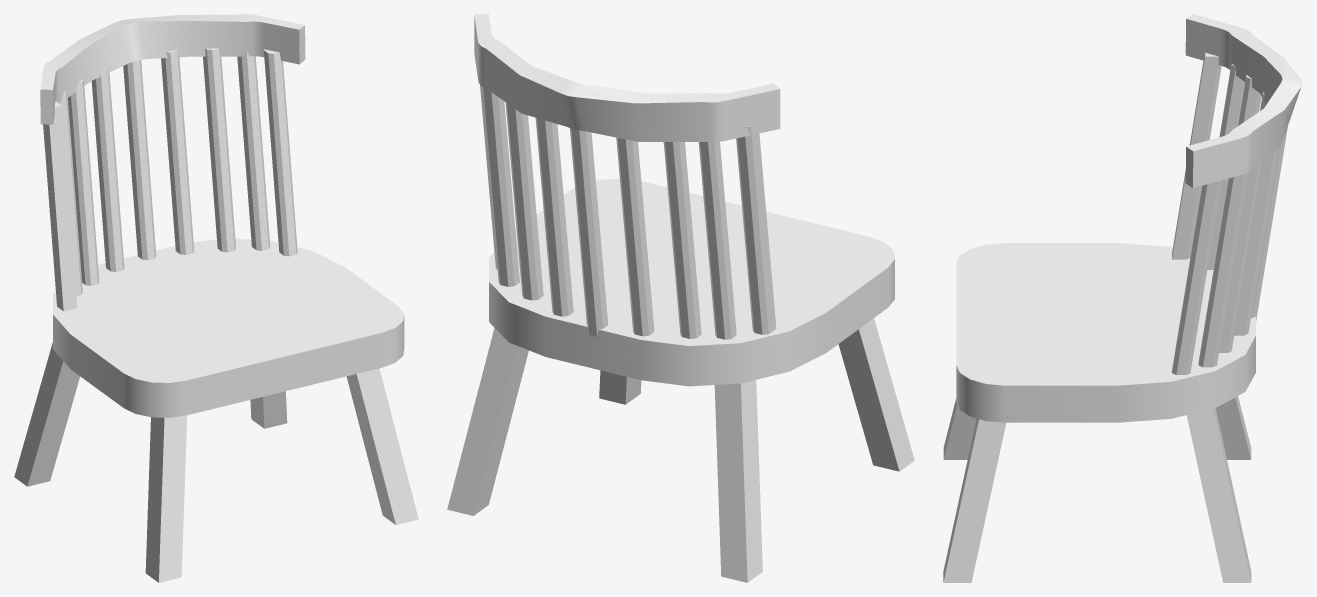
Rendered from chair_white.fbx.
3 views of the same model, side by side, from view 1: azimuth 30°, elevation 25°; view 2: azimuth 150°, elevation 25°; view 3: azimuth 270°, elevation 25° (orthographic). The views are drawn at different scales.
Visible parts, largest first — view 1: chair_white; view 2: chair_white; view 3: chair_white.
Boxes of the visible parts, bbox=[...] form: chair_white: bbox=[14, 14, 418, 582]; chair_white: bbox=[447, 14, 914, 582]; chair_white: bbox=[943, 14, 1302, 582].
Size of the model in its own units: 0.00473 by 0.00676 by 0.00503.
Materials: 1 (1 with a texture image).
